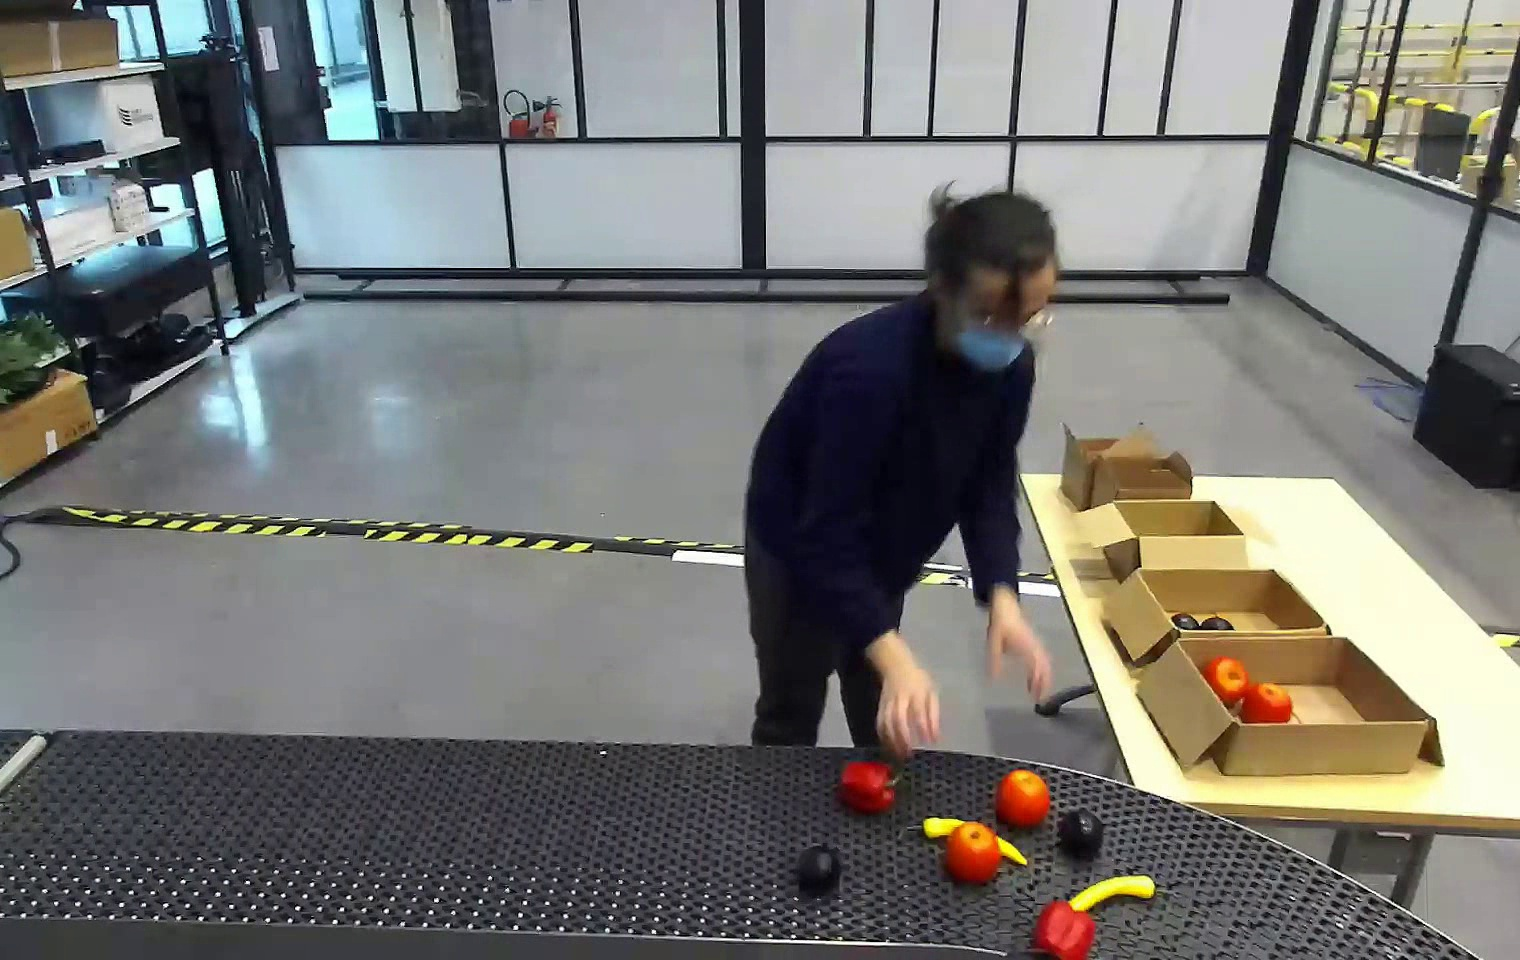Main droite: (820, 702, 885, 814)
